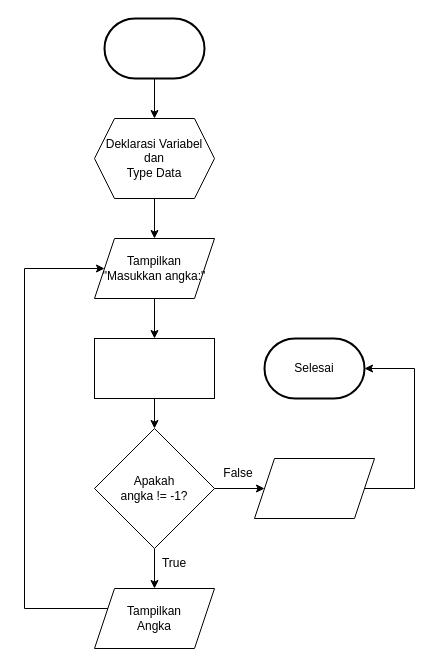
The diagram is 440 pixels wide and 666 high, and some of its shapes have lost their labels. Here are the shapes that lost their labels. From the top down, the centre of each, then its label:
[154,48]: Mulai
[154,368]: Baca input (angka)
[314,488]: Tampilkan "Program berhenti"
